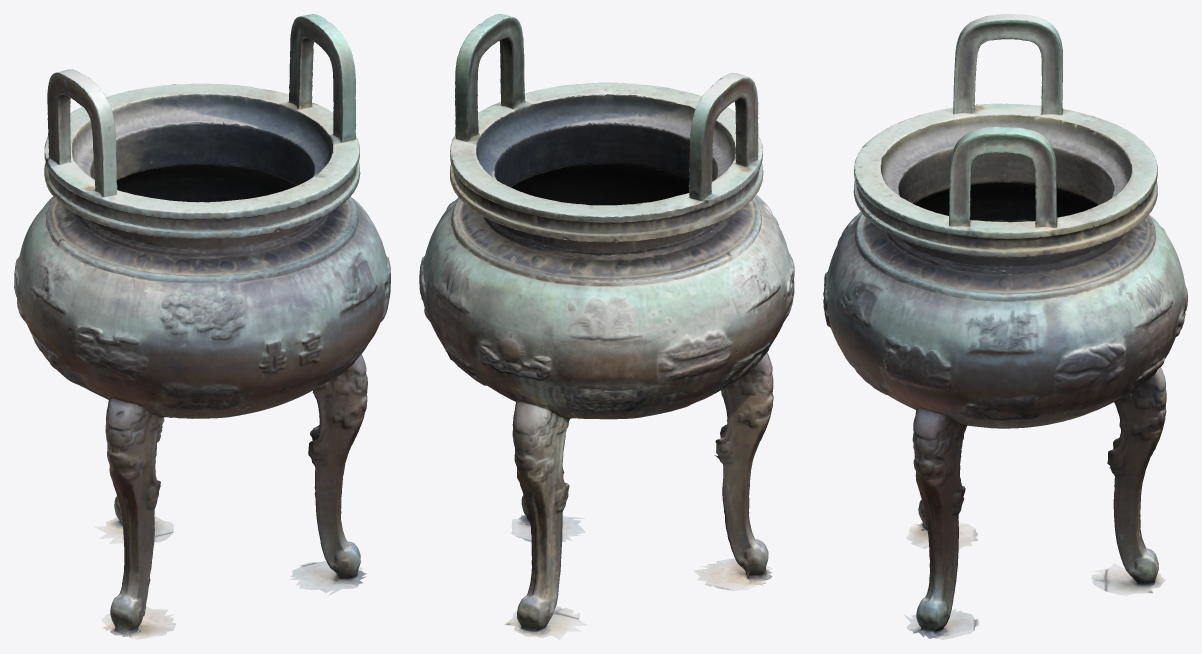
The model's file is CaoDinh.fbx.
The picture shows the model from 3 angles, left to right: view 1: azimuth 30°, elevation 25°; view 2: azimuth 150°, elevation 25°; view 3: azimuth 270°, elevation 25°; orthographic projection. The views are drawn at different scales.
Parts seen in each view (by area): view 1: CaoDinh; view 2: CaoDinh; view 3: CaoDinh.
Boxes of the visible parts, x1,y1,x2,y2 form: CaoDinh: [14, 14, 390, 639]; CaoDinh: [419, 14, 794, 639]; CaoDinh: [823, 14, 1187, 639].
Bounding box in the file's own units: 1.02 × 1.6 × 1.04.
